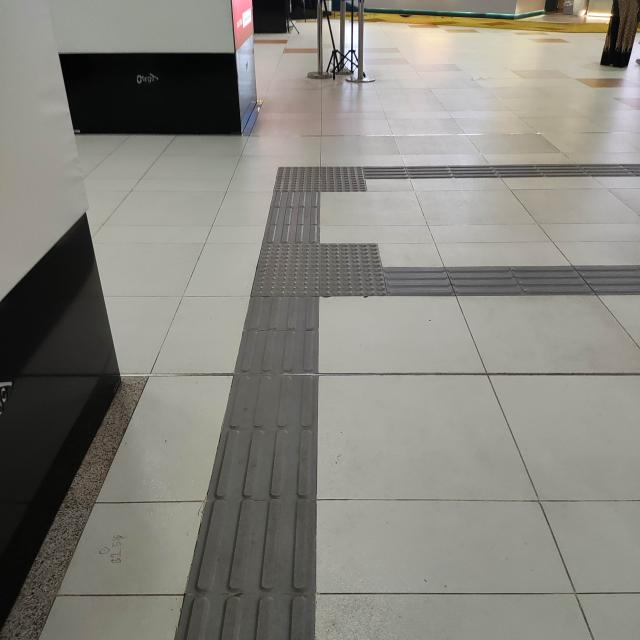kanan: (249, 145, 443, 206)
